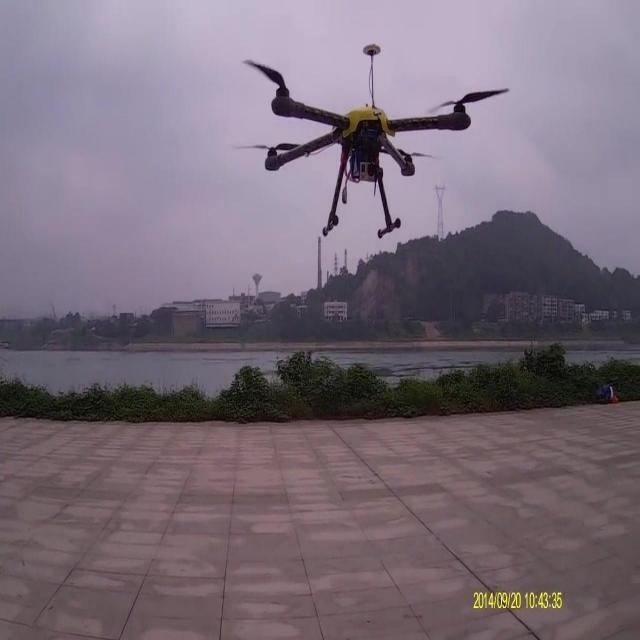UAV: (245, 42, 488, 239)
